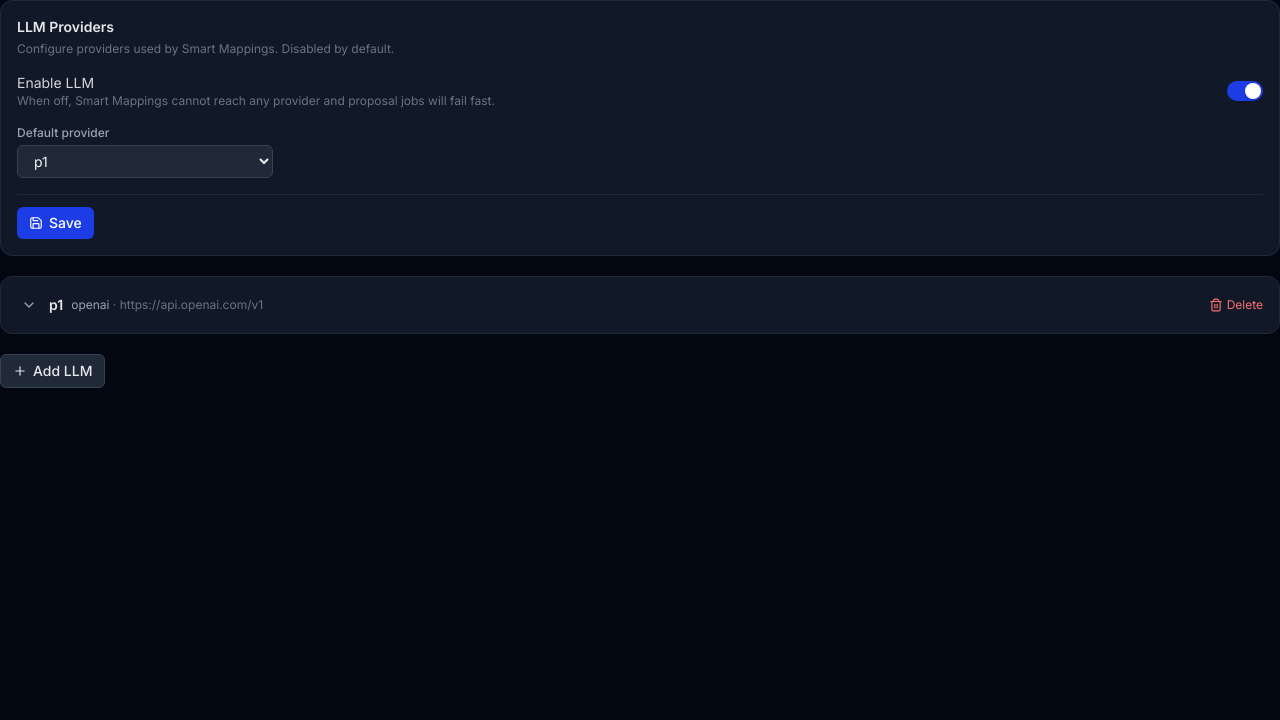
Test case: ProviderCard (027 step 5: Discover-then-Probe per-card surface) › shows the "No models discovered" hint when available_models is empty for a non-Anthropic kind
The image size is (1280, 720).
Click the button named "Expand p1": (29, 305) [17,293,41,317]
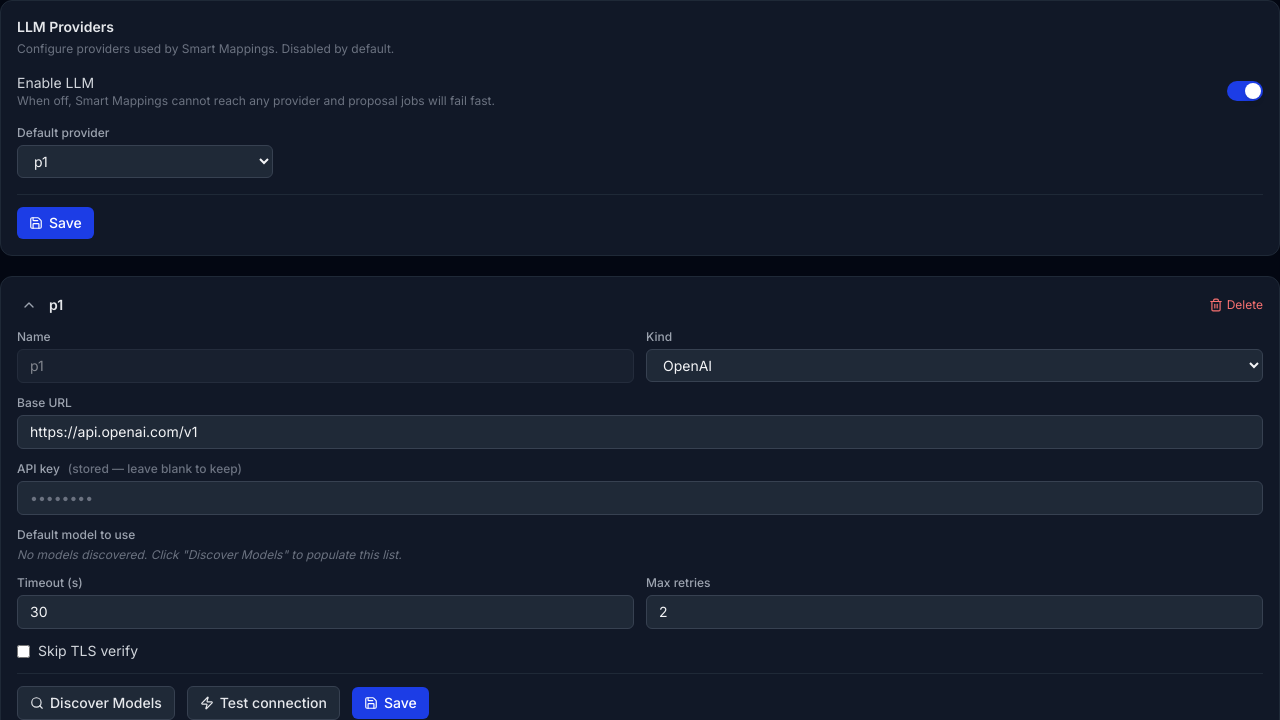
Now the text "No models discovered. Click \"Discover Models\" to populate this list." is shown, box [17,547,402,562]
